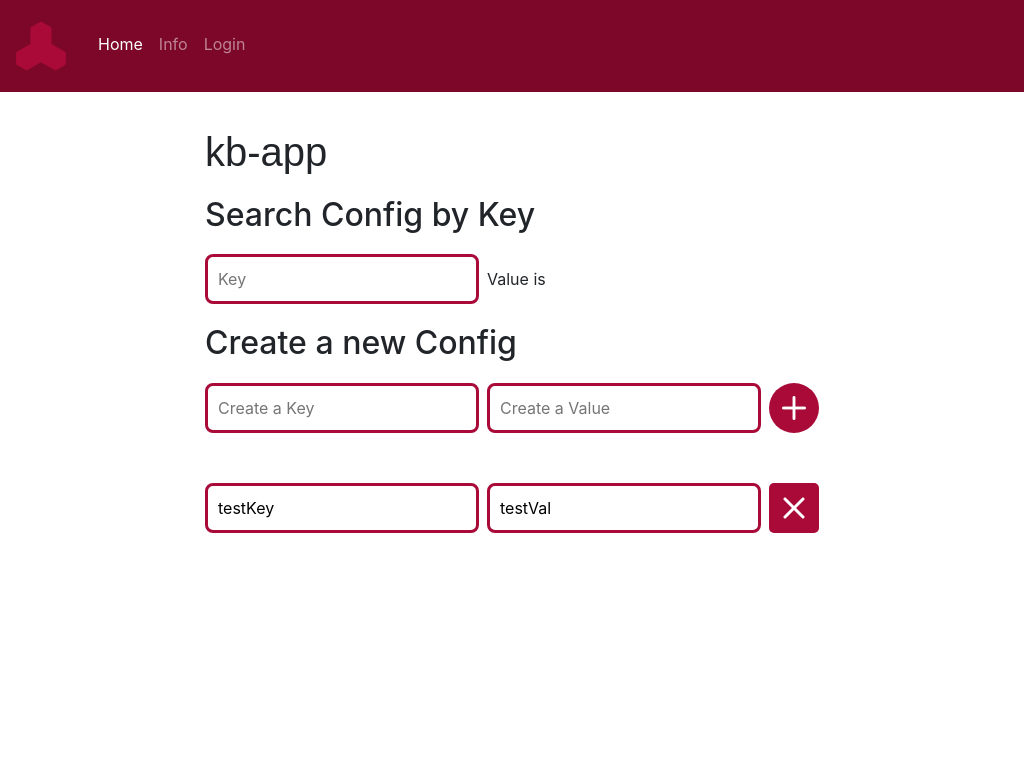
Test case: component testing › should find existing config
This screenshot has width=1024, height=768.
Type "testKey" into the field with id "keyInputSearch" at x=342, y=279, box [205,254,479,304]
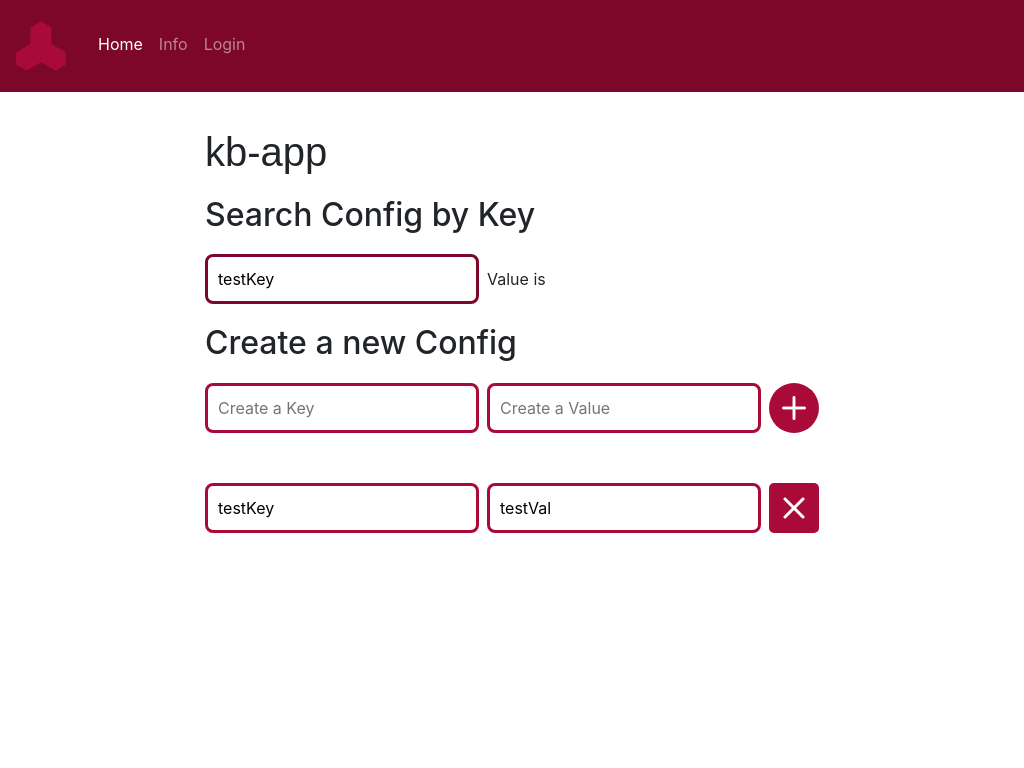
Press Enter in the field with id "keyInputSearch", box [205,254,479,304]
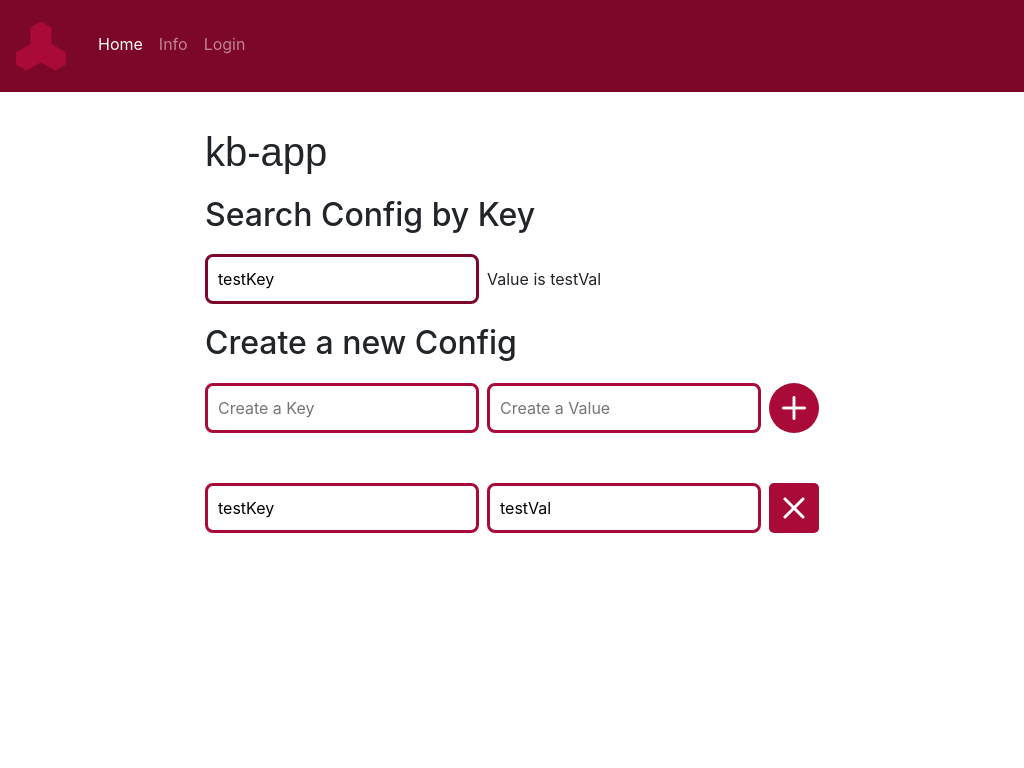
Result: the text "Value is testVal" is shown at [487,267,601,291]
